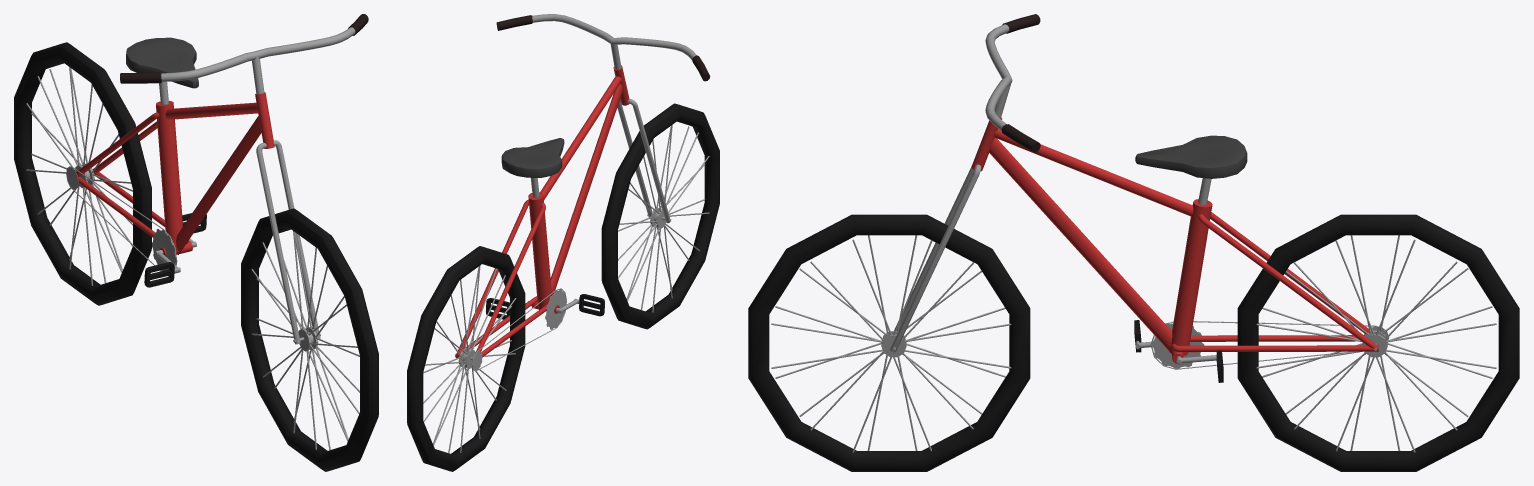
The model's file is Bicycle_Model.fbx.
3 renders of one model, left to right at view 1: azimuth 30°, elevation 25°; view 2: azimuth 150°, elevation 25°; view 3: azimuth 270°, elevation 25°, orthographic. The views are drawn at different scales.
Parts seen in each view (by area): view 1: Bicycle; view 2: Bicycle; view 3: Bicycle.
Part boxes in pixels (left/top/right/bottom): Bicycle: left=14, top=14, right=378, bottom=471; Bicycle: left=407, top=14, right=719, bottom=471; Bicycle: left=748, top=14, right=1519, bottom=471.
Size of the model in its own units: 66.16 by 94.18 by 165.
